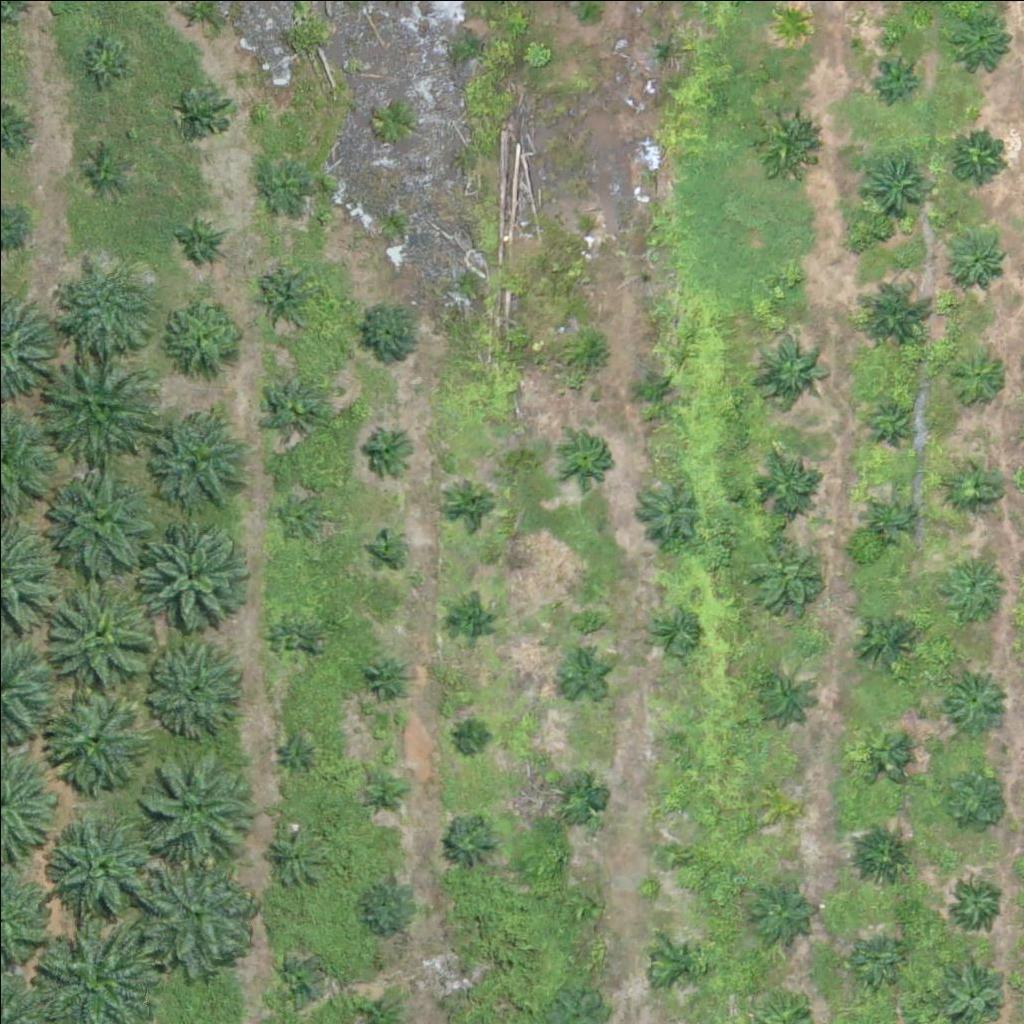Kelapa_Sawit: (39, 342, 151, 456), (43, 458, 155, 572), (40, 575, 152, 689), (140, 856, 252, 969), (131, 750, 243, 863), (50, 818, 150, 919), (44, 690, 144, 791), (139, 525, 239, 625), (151, 399, 251, 499), (162, 288, 249, 376), (147, 641, 234, 729), (62, 261, 149, 349), (850, 268, 937, 356), (754, 329, 829, 405), (940, 759, 1015, 835), (859, 150, 934, 225), (948, 344, 1011, 407), (943, 551, 1006, 614), (945, 227, 1008, 290), (251, 261, 314, 324), (637, 478, 700, 541), (356, 302, 419, 365), (754, 110, 817, 173), (749, 879, 812, 942), (850, 824, 913, 887), (356, 874, 419, 937), (945, 667, 1007, 730), (952, 7, 1014, 70), (948, 124, 1010, 187), (258, 371, 320, 434), (855, 607, 917, 670), (755, 450, 817, 513), (752, 541, 815, 603), (747, 662, 809, 725), (164, 209, 226, 272), (447, 477, 497, 528), (363, 423, 413, 474), (270, 829, 320, 880), (654, 941, 704, 992), (447, 816, 497, 867), (629, 364, 679, 415), (567, 329, 617, 380), (949, 458, 999, 508), (877, 49, 927, 99), (257, 155, 307, 205), (181, 91, 231, 141), (265, 612, 315, 662), (445, 595, 495, 645), (557, 650, 607, 700), (857, 728, 907, 778), (650, 607, 700, 657), (562, 432, 612, 482), (949, 876, 999, 926), (855, 935, 905, 985), (555, 770, 605, 820), (79, 35, 129, 85), (78, 144, 128, 194), (270, 957, 320, 1007), (359, 767, 409, 817), (276, 493, 326, 543), (360, 653, 410, 703), (869, 396, 918, 447), (559, 886, 597, 924), (368, 530, 406, 568), (773, 4, 811, 42), (871, 500, 908, 538), (647, 30, 684, 68), (449, 966, 474, 991), (283, 737, 308, 762), (460, 723, 485, 748), (661, 730, 686, 755), (661, 846, 686, 871), (766, 792, 791, 817), (574, 3, 599, 28), (577, 212, 602, 237), (776, 265, 801, 290)
